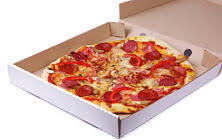pizza: (43, 37, 194, 106)
